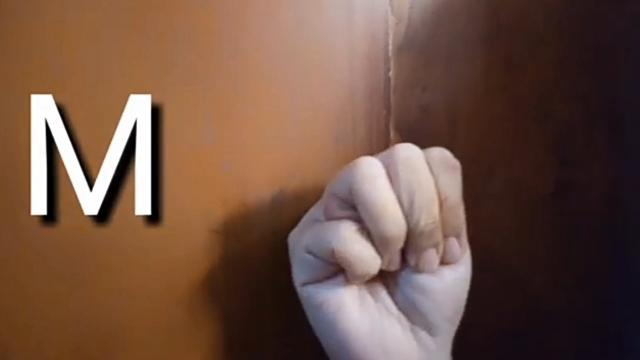M: (288, 142, 474, 360)
